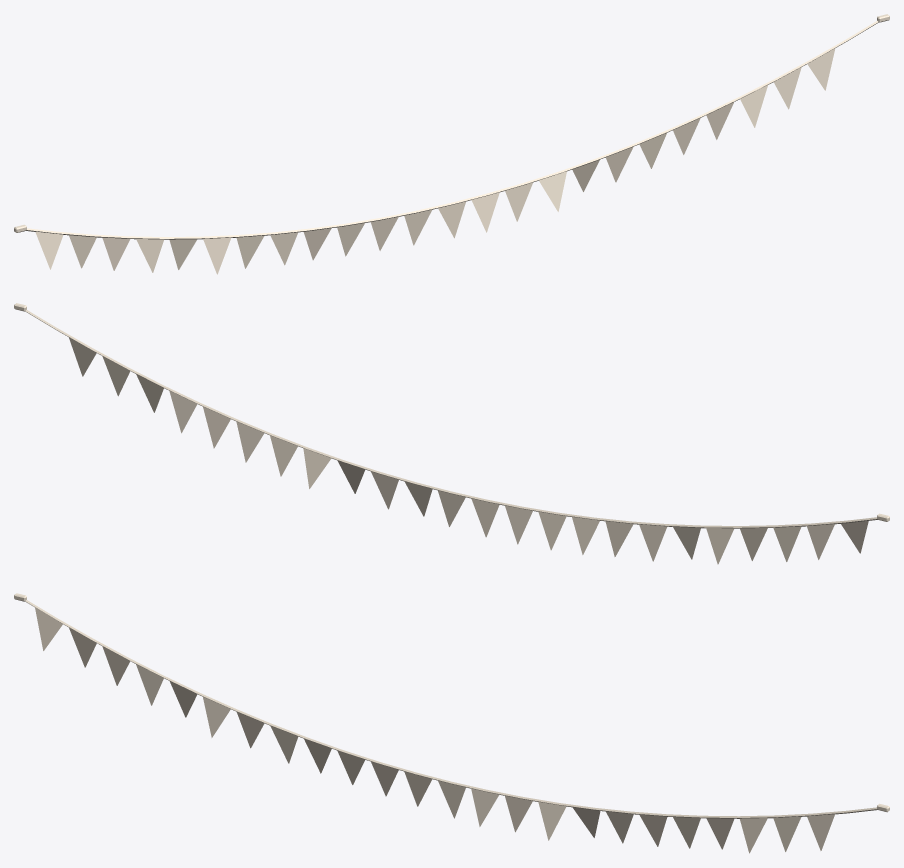
Rendered from SM_VK_Prop_Bunting_9.fbx.
3 renders of one model, top to bottom at view 1: azimuth 30°, elevation 25°; view 2: azimuth 150°, elevation 25°; view 3: azimuth 330°, elevation 25°, orthographic.
Visible parts, largest first — view 1: SM_VK_Prop_Bunting_9.001; view 2: SM_VK_Prop_Bunting_9.001; view 3: SM_VK_Prop_Bunting_9.001.
Part boxes in pixels (<box>): SM_VK_Prop_Bunting_9.001: <box>14,14,889,274</box>; SM_VK_Prop_Bunting_9.001: <box>14,303,889,564</box>; SM_VK_Prop_Bunting_9.001: <box>14,593,889,853</box>.
Bounding box in the file's own units: 9.12 × 1.17 × 0.195.
